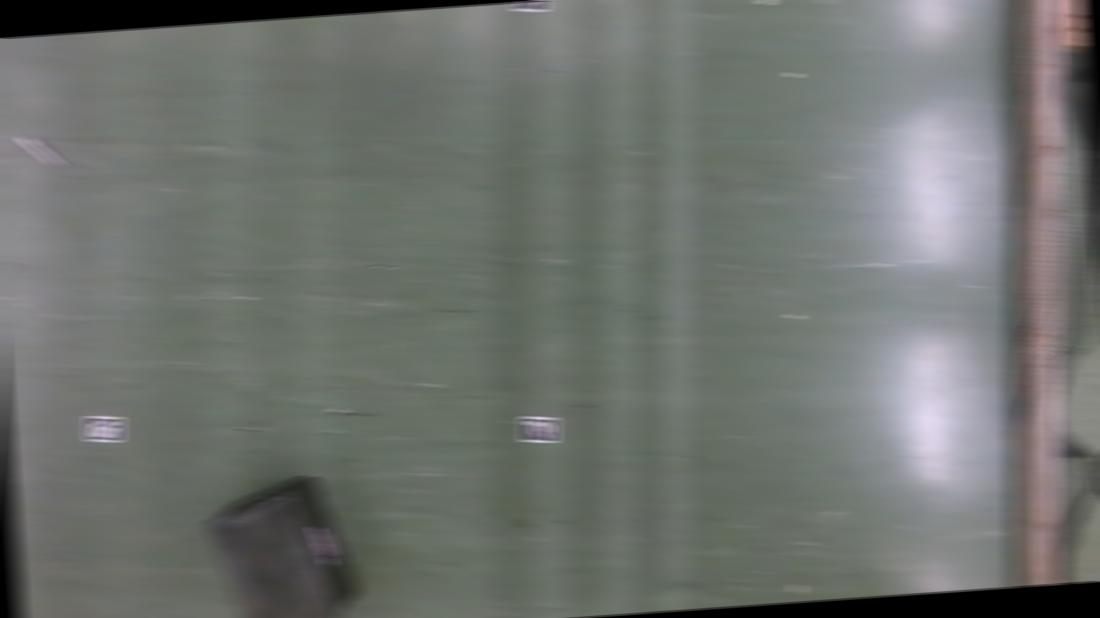probes: (17, 132, 64, 171)
rako: (201, 470, 364, 618)
